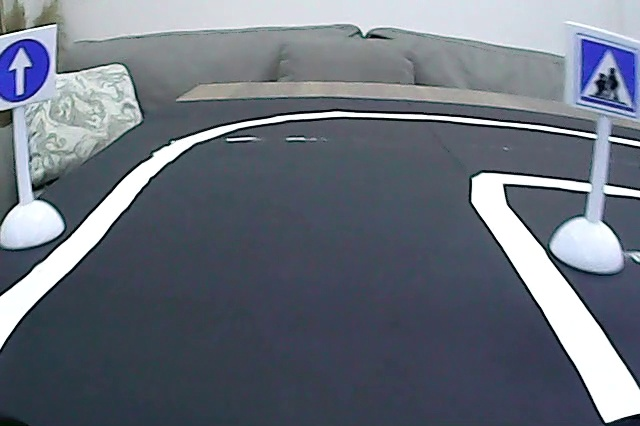school crossing: (573, 30, 640, 117)
